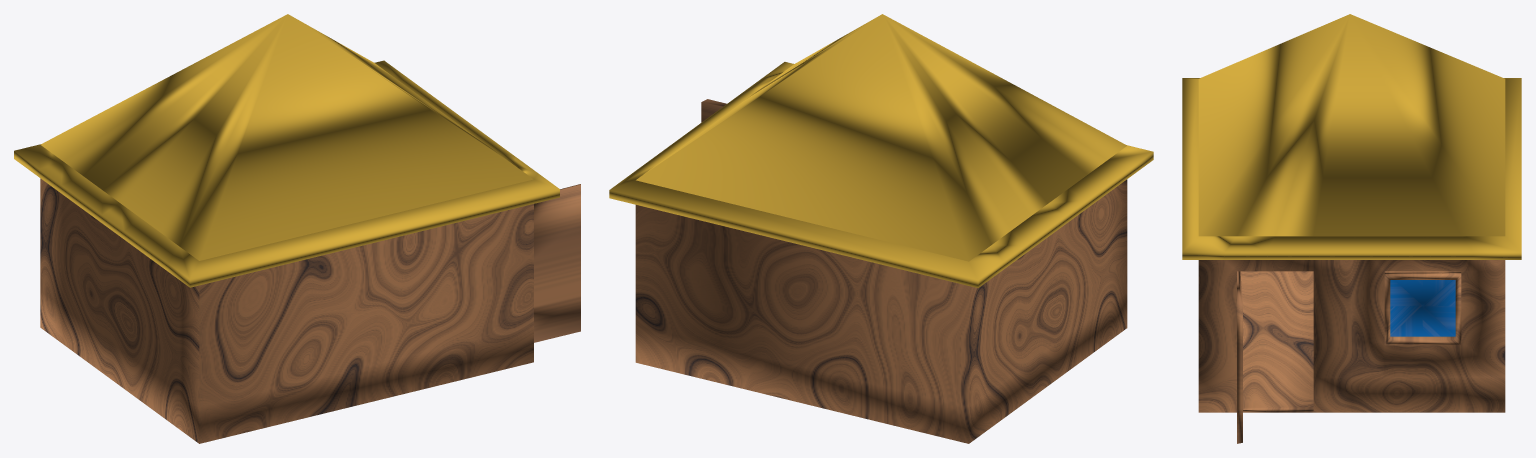
File: witchhat.fbx
3 renders of one model, left to right at view 1: azimuth 30°, elevation 25°; view 2: azimuth 150°, elevation 25°; view 3: azimuth 270°, elevation 25°, orthographic. The views are drawn at different scales.
Parts seen in each view (by area): view 1: house_structure.001; view 2: house_structure.001; view 3: house_structure.001.
Part boxes in pixels (<box>): house_structure.001: <box>14,14,580,443</box>; house_structure.001: <box>609,14,1153,443</box>; house_structure.001: <box>1182,14,1521,443</box>.
Bounding box in the file's own units: 872 × 654 × 629.
